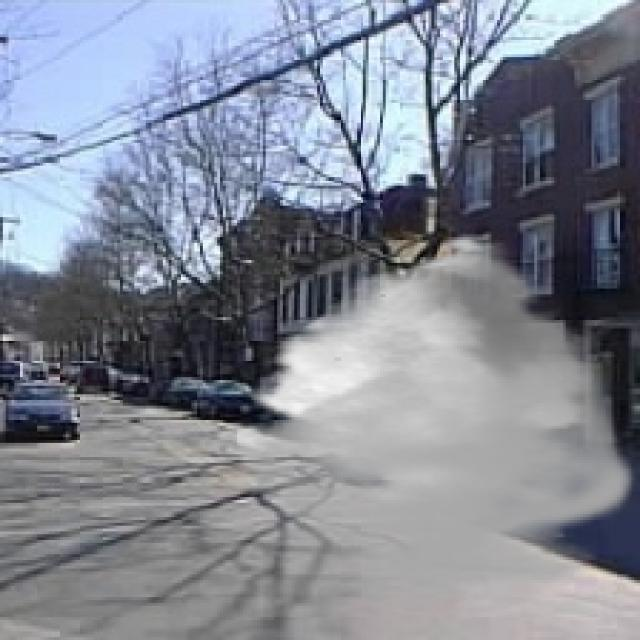smoke: (237, 232, 637, 617)
